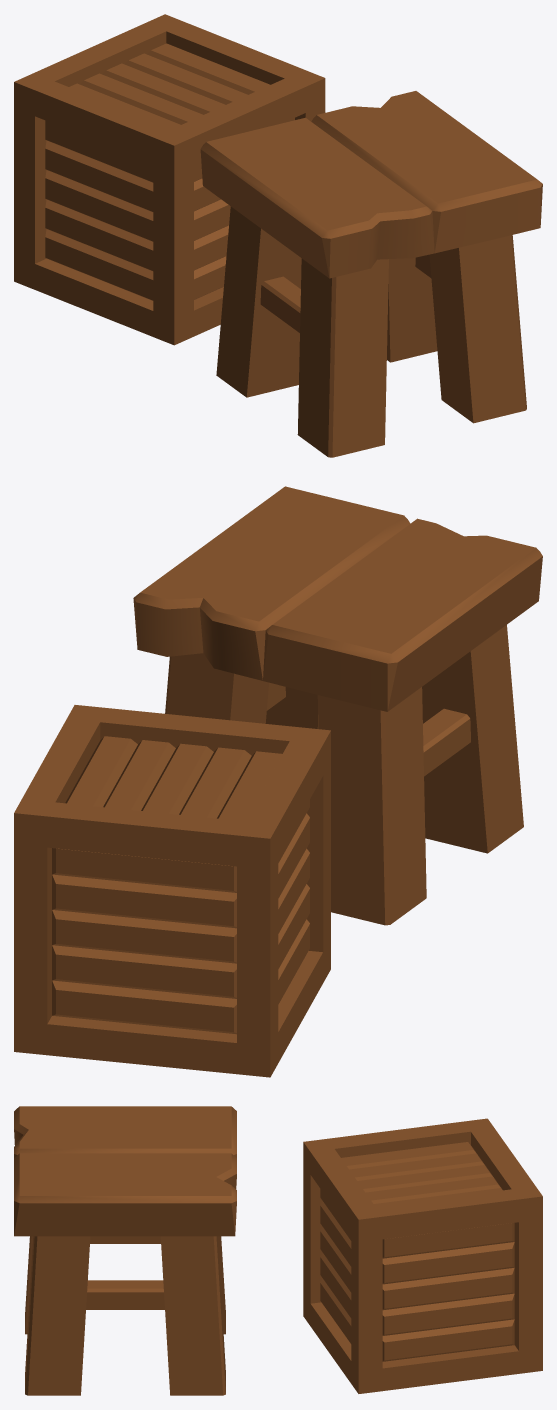
Rendered from decor6.fbx.
The picture shows the model from 3 angles, top to bottom: view 1: azimuth 30°, elevation 25°; view 2: azimuth 150°, elevation 25°; view 3: azimuth 270°, elevation 25°; orthographic projection. The views are drawn at different scales.
Visible parts, largest first — view 1: table_small.020, table_small.019; view 2: table_small.019, table_small.020; view 3: table_small.019, table_small.020.
Boxes of the visible parts, x1,y1,x2,y2 form: table_small.020: (200,91,542,457); table_small.019: (14,14,325,345); table_small.019: (14,705,330,1077); table_small.020: (133,486,542,925); table_small.019: (303,1118,542,1393); table_small.020: (14,1106,236,1395).
Size of the model in its own units: 311 by 268 by 624.
